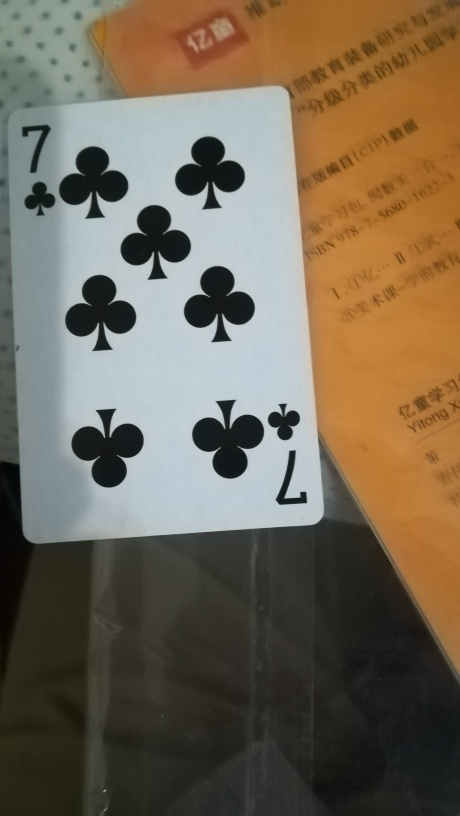mh 7: (6, 86, 327, 546)
